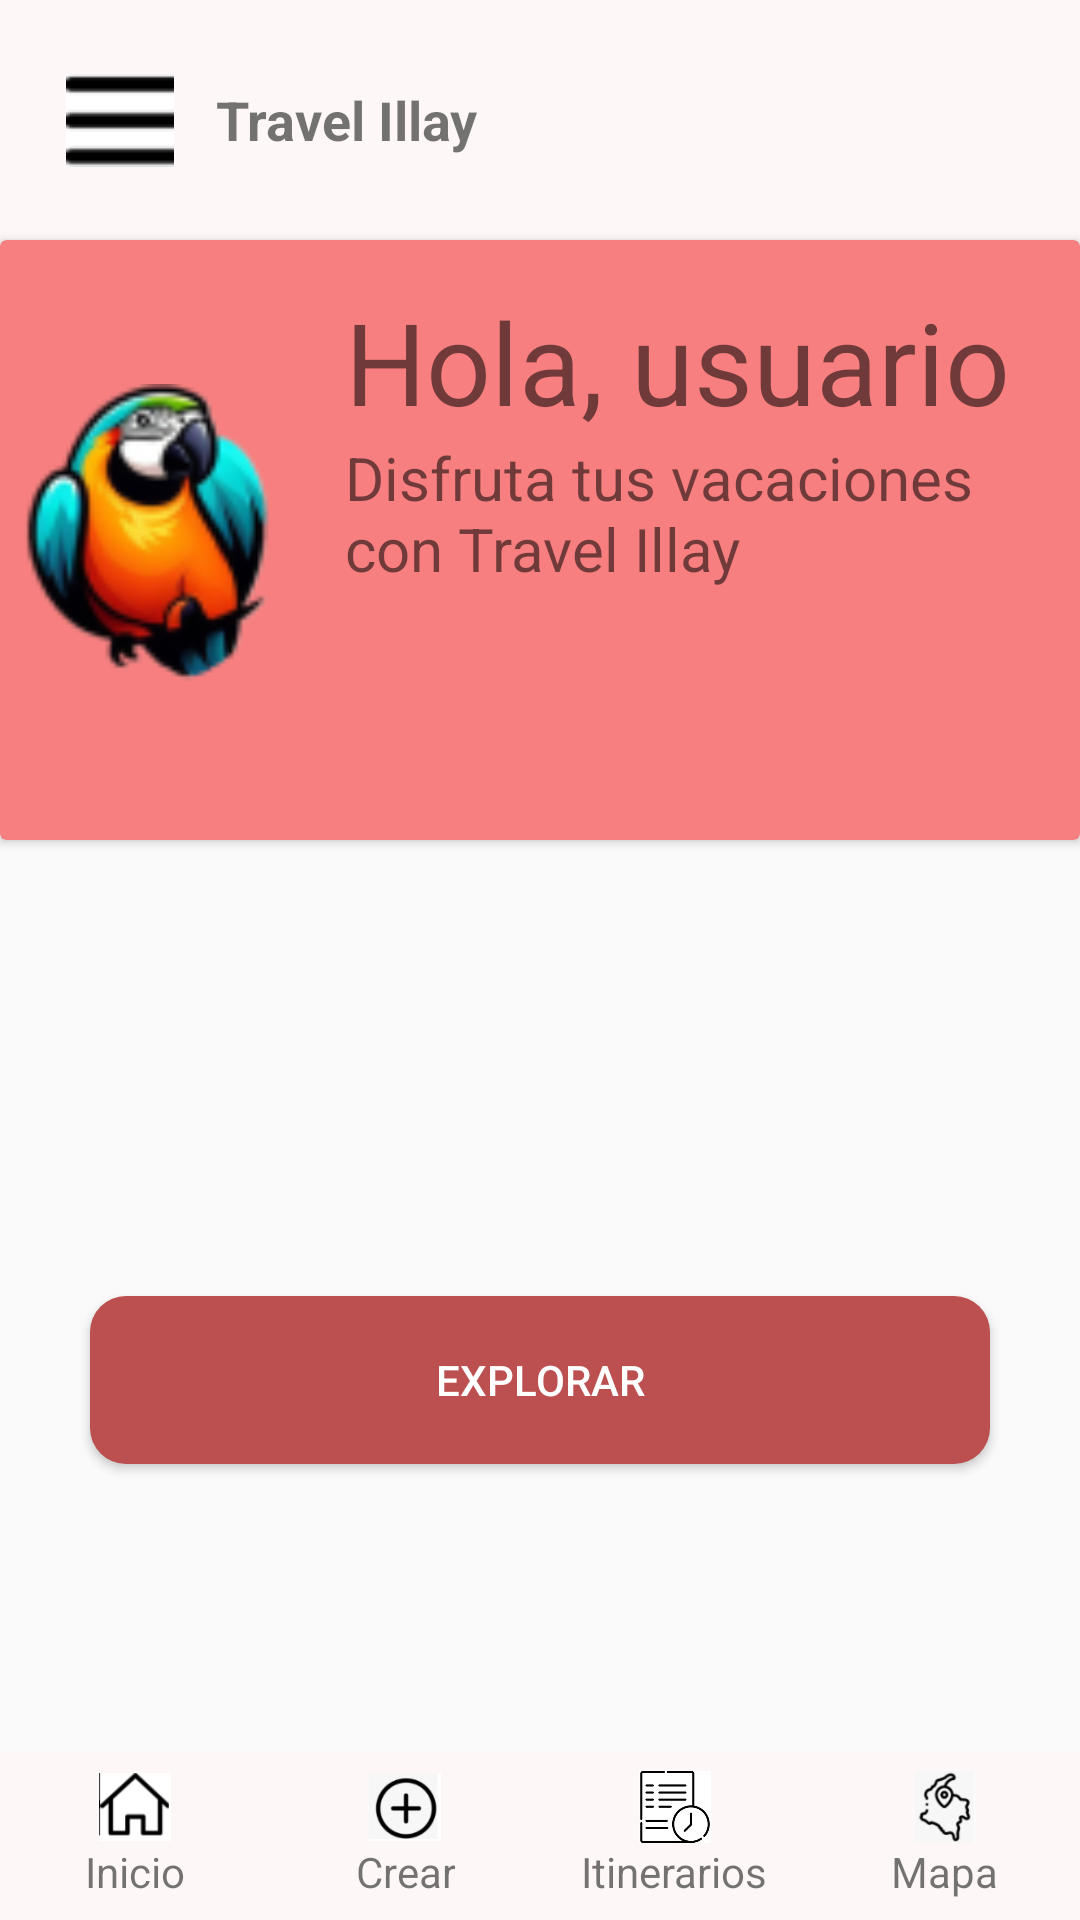

Named icons in this screenshot (1080*1920) and their centers, (x=x, y=y):
Menú principal: (x=120, y=121)
